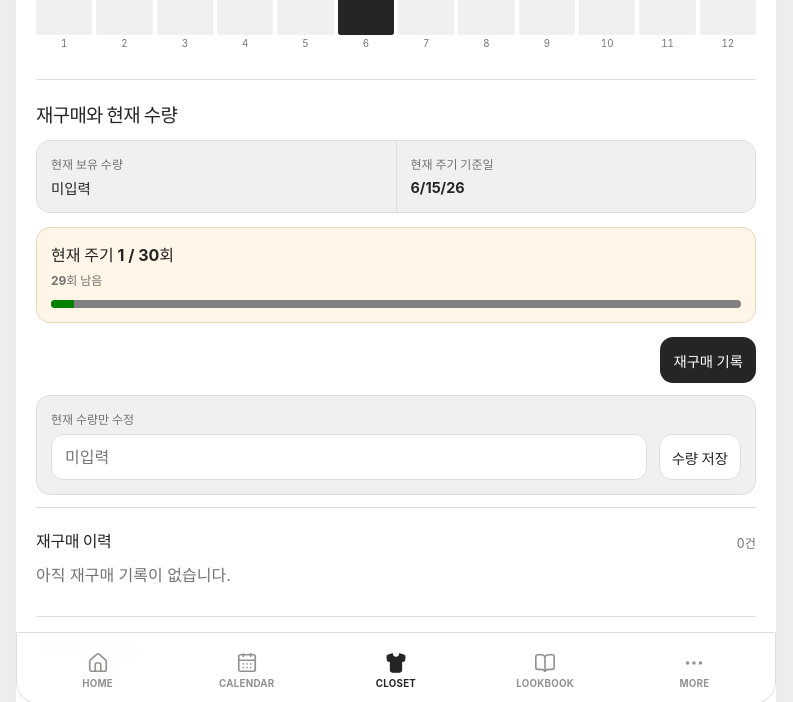
Test: ItemDetailPage replenishment › 대상 분류의 재구매와 저장 후 현재 수량을 한 번에 기록한다
(page scrolled)
Expected: the text "미입력" is shown, [51,180,91,197]
Click the button "재구매 기록": (708, 360) [660,337,756,383]
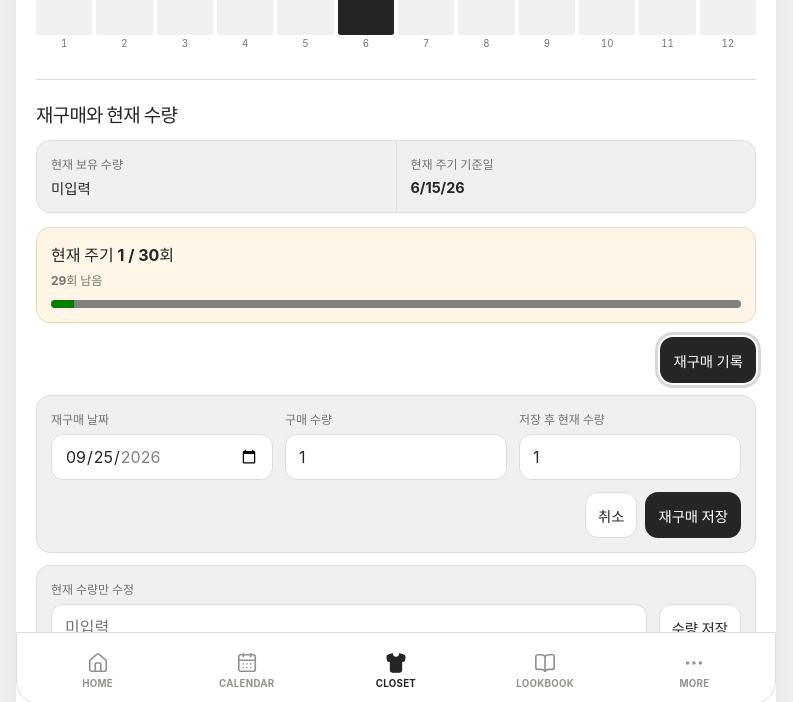
In the date field labelled "재구매 날짜": (162, 457) [51,434,273,480], type "2026-07-24"
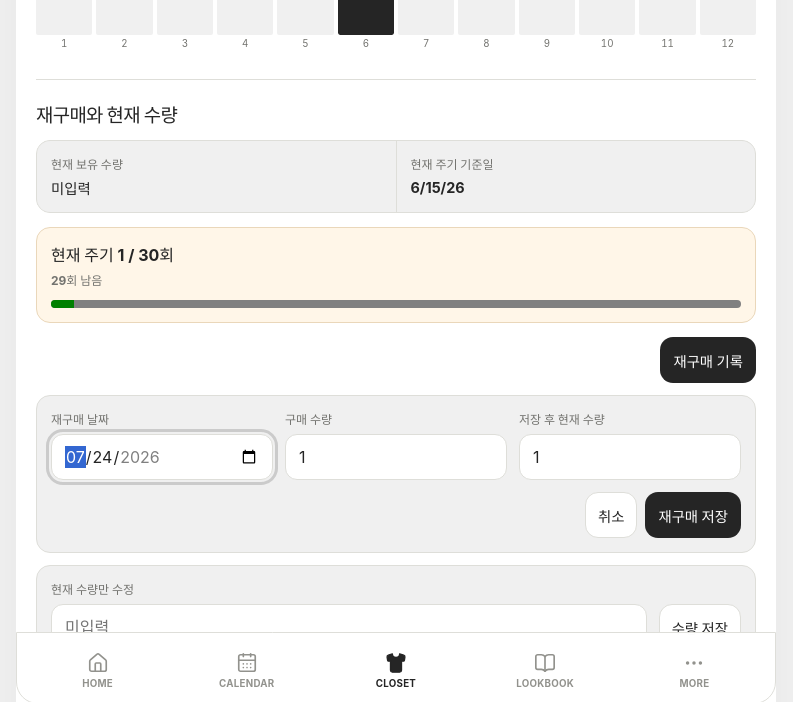
Replace the text in the number field labelled "구매 수량" with "2": (396, 457) [285,434,507,480]
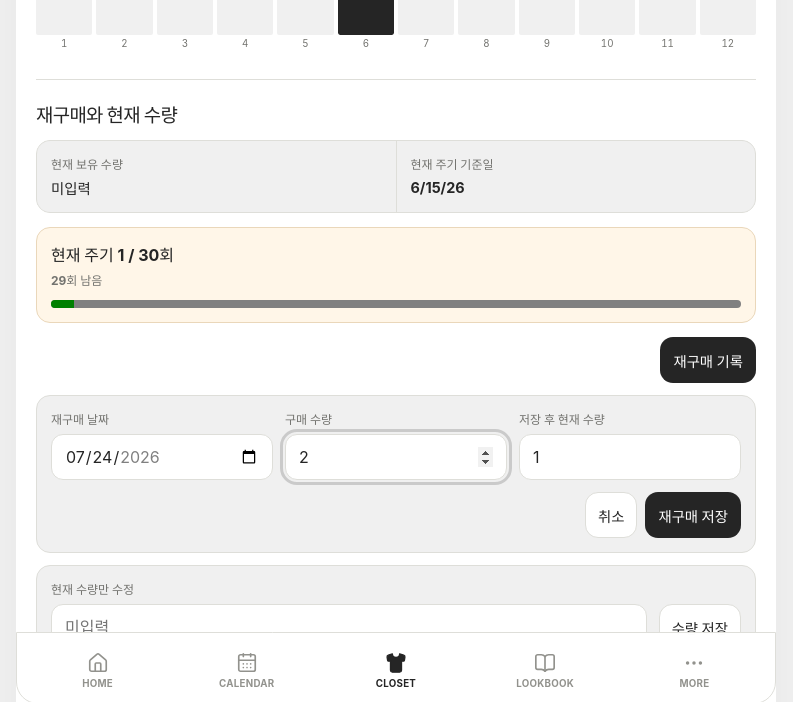
Replace the text in the number field labelled "저장 후 현재 수량" with "4": (630, 457) [519,434,741,480]
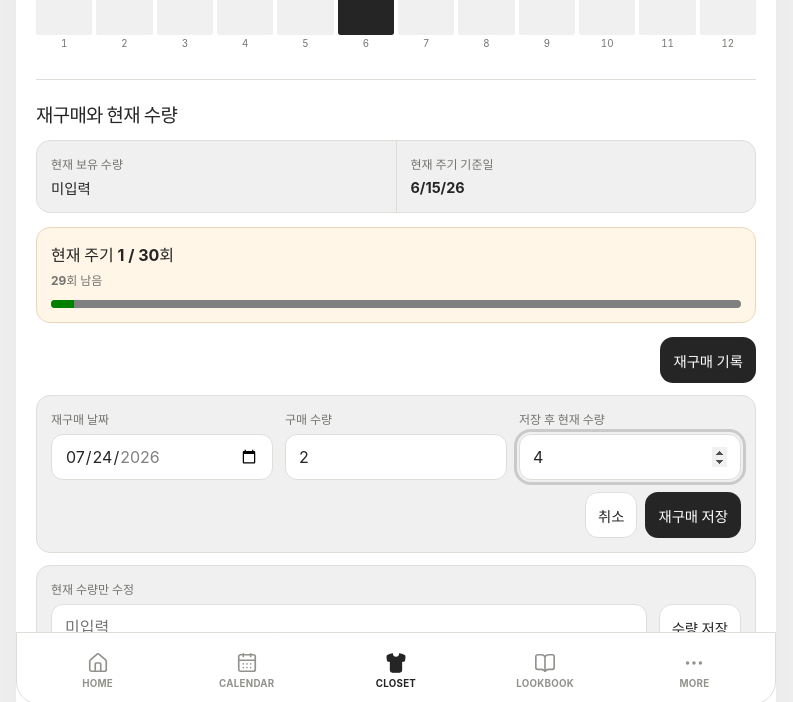
Click the button "재구매 저장": (693, 515) [645,492,741,538]
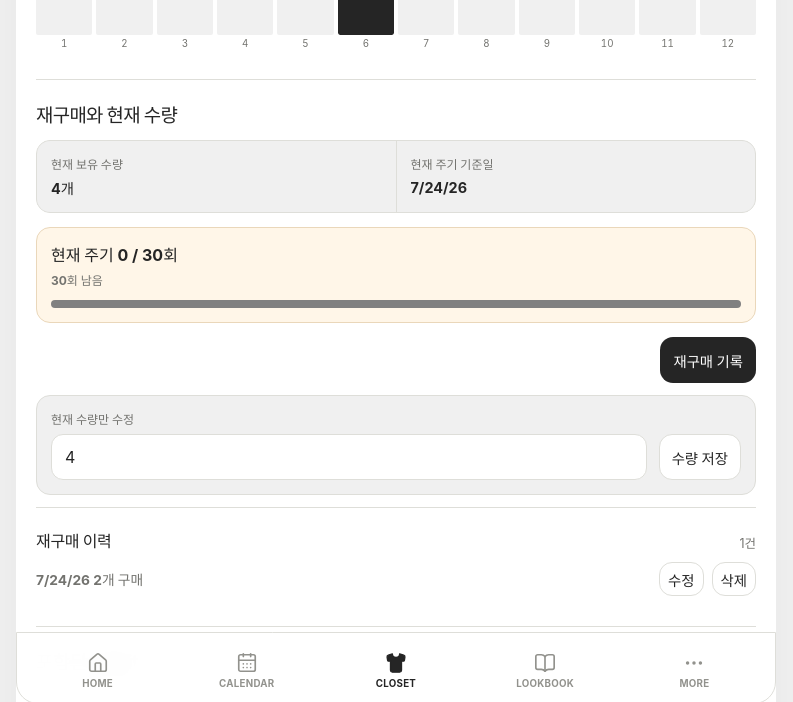
Result: the text "4개" is shown at [51,180,74,197]
Result: the text "7/24/26 2개 구매" is shown at [36,569,143,589]
